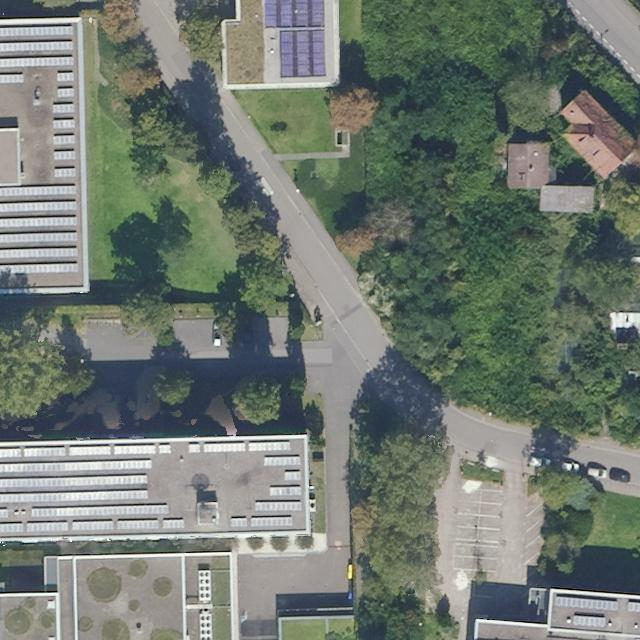PV: (0, 474, 147, 492), (0, 458, 151, 475), (0, 489, 147, 505), (280, 30, 324, 76), (263, 0, 323, 27), (0, 247, 79, 263), (0, 24, 74, 41), (0, 185, 77, 201), (0, 216, 77, 231), (0, 40, 73, 55), (0, 200, 78, 213), (554, 596, 621, 611), (0, 231, 77, 244), (0, 56, 74, 69), (0, 262, 80, 274), (117, 519, 159, 531), (572, 615, 607, 629), (113, 444, 156, 455), (22, 447, 66, 457), (27, 522, 68, 532), (54, 102, 75, 114), (54, 118, 75, 129), (163, 518, 184, 529), (0, 73, 22, 83), (55, 149, 75, 160), (54, 167, 76, 177), (54, 135, 75, 145), (58, 87, 74, 98), (58, 71, 73, 82), (628, 600, 639, 612), (189, 443, 201, 453), (0, 508, 7, 521)
